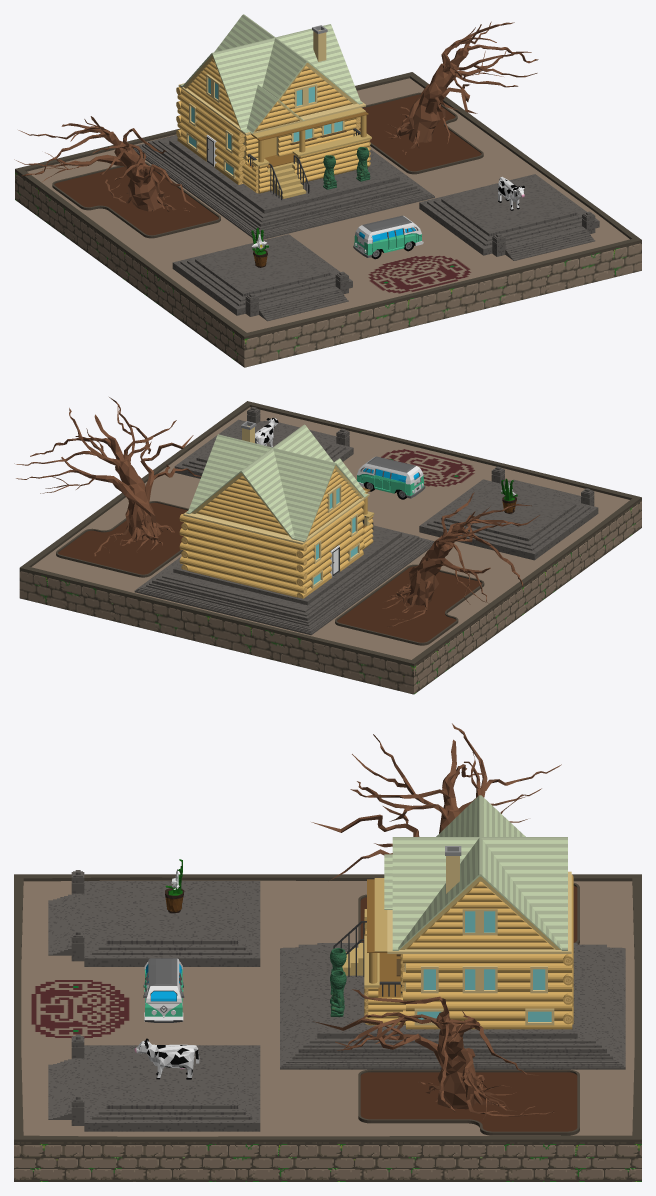
3 renders of one model, top to bottom at view 1: azimuth 30°, elevation 25°; view 2: azimuth 150°, elevation 25°; view 3: azimuth 270°, elevation 25°, orthographic. The views are drawn at different scales.
Visible parts, largest first — view 1: Cube.011, Cube.1516, VEHICLES_VAN, ANIMAL_VACA; view 2: Cube.011, Cube.1516, VEHICLES_VAN; view 3: Cube.011, Cube.1516, VEHICLES_VAN, ANIMAL_VACA.
Boxes of the visible parts, box(x1,y1,x2,y2) form: Cube.011: box(14, 21, 641, 367); Cube.1516: box(176, 14, 371, 200); VEHICLES_VAN: box(353, 215, 423, 259); ANIMAL_VACA: box(498, 176, 524, 210); Cube.011: box(14, 397, 641, 694); Cube.1516: box(179, 421, 374, 598); VEHICLES_VAN: box(357, 456, 425, 499); Cube.011: box(14, 723, 641, 1181); Cube.1516: box(333, 795, 573, 1029); VEHICLES_VAN: box(143, 958, 184, 1022); ANIMAL_VACA: box(134, 1038, 199, 1079).
Size of the model in its own units: 5099 by 1658 by 4000.
39 materials, 6 textured.
